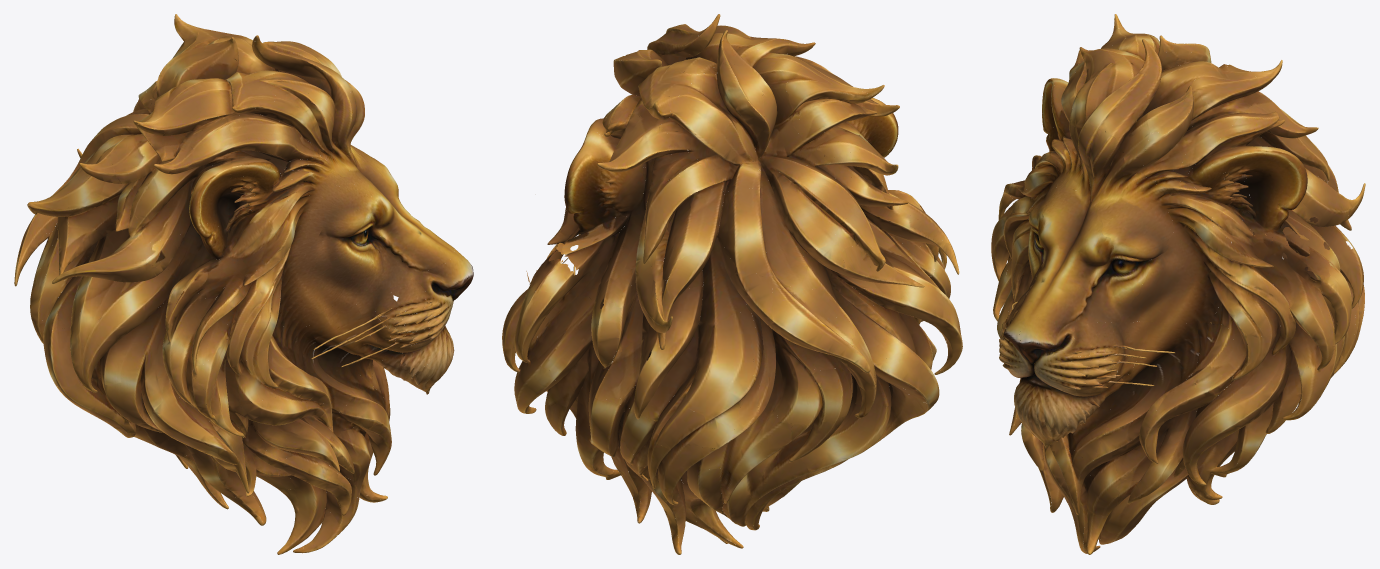
The model's file is lion-desktop.glb.
3 renders of one model, left to right at view 1: azimuth 30°, elevation 25°; view 2: azimuth 150°, elevation 25°; view 3: azimuth 270°, elevation 25°, orthographic. The views are drawn at different scales.
Visible parts, largest first — view 1: tripo_node_755e879b-e665-42ce-9f13-41e40b9459c3; view 2: tripo_node_755e879b-e665-42ce-9f13-41e40b9459c3; view 3: tripo_node_755e879b-e665-42ce-9f13-41e40b9459c3.
Boxes of the visible parts, x1,y1,x2,y2 form: tripo_node_755e879b-e665-42ce-9f13-41e40b9459c3: (14,14,473,554); tripo_node_755e879b-e665-42ce-9f13-41e40b9459c3: (502,14,962,554); tripo_node_755e879b-e665-42ce-9f13-41e40b9459c3: (991,14,1365,554).
Size of the model in its own units: 1.55 by 2 by 1.35.
1 material, 1 textured.
